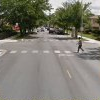crosswalk: (9, 49, 85, 53)
